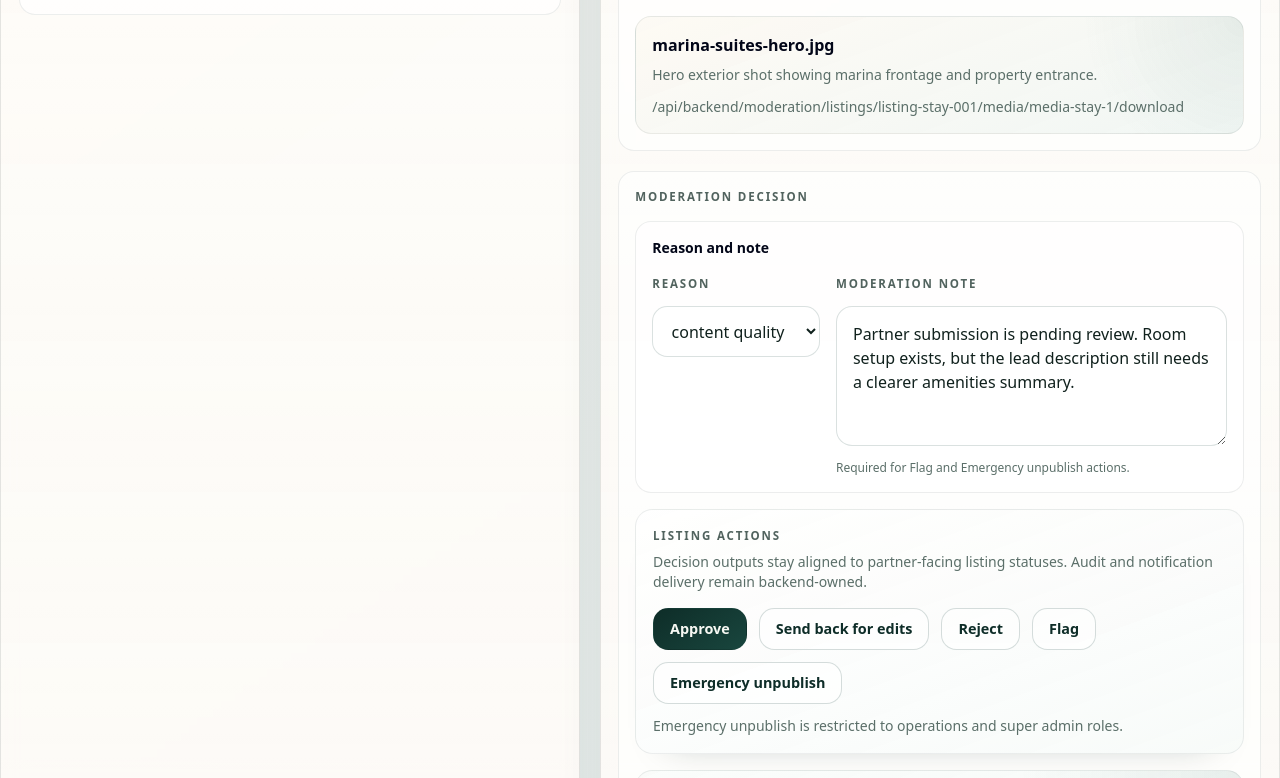
Test: ListingModerationWorkspace › supports correction requests for pending listings
The image size is (1280, 778).
(page scrolled)
Select "missing details" in the dropdown showing "content quality" at (736, 332), box [652,306,820,357]
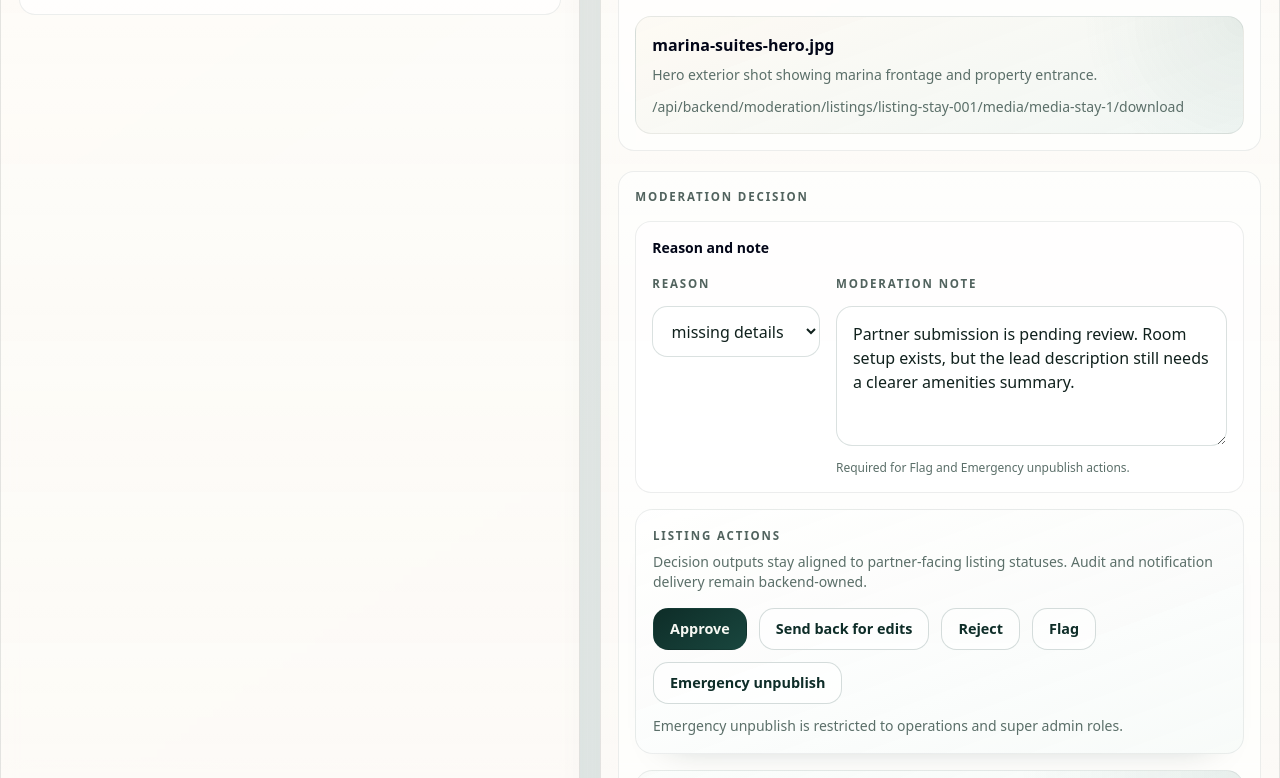
Replace the text in the text box with placeholder "Capture moderation reason" with "Please clarify amenities and route coverage before resubmitting." at (1032, 376), box [836,306,1228,446]
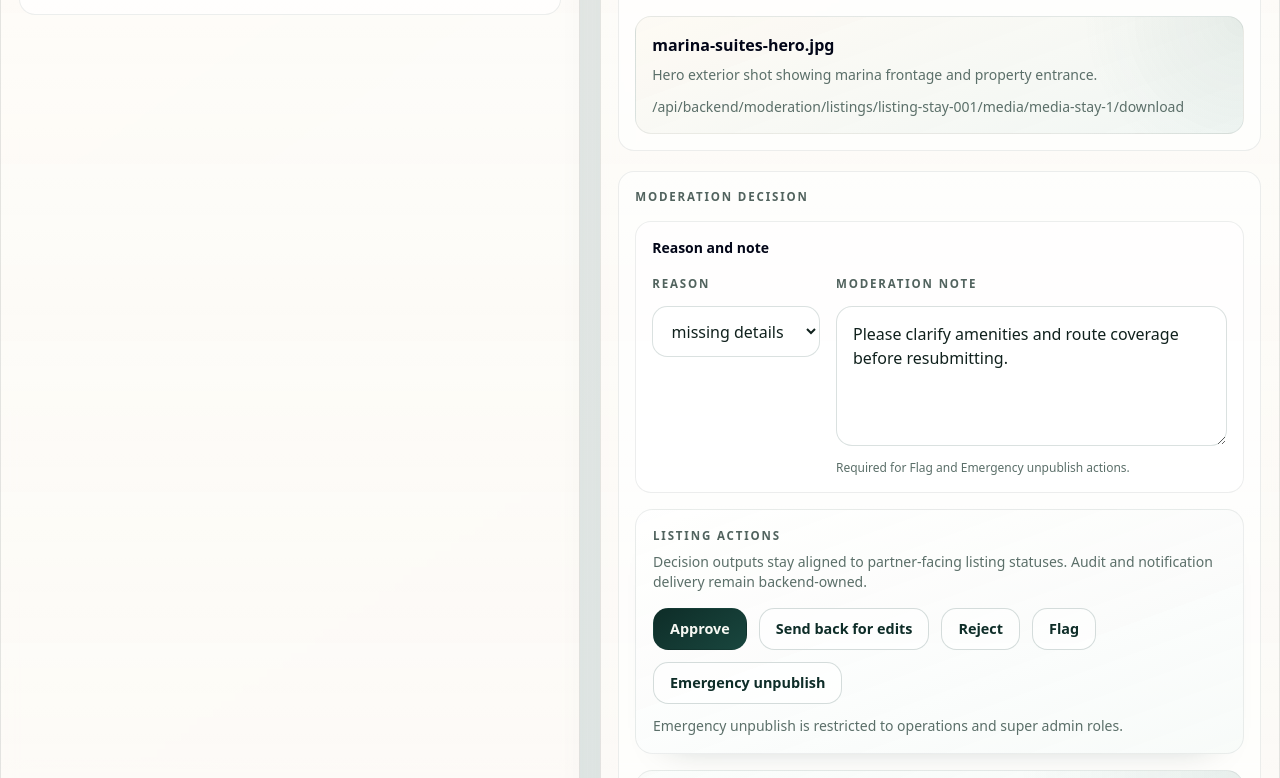
Click the button "Send back for edits".
click(844, 630)  # box [759,608,930,650]
(page scrolled)
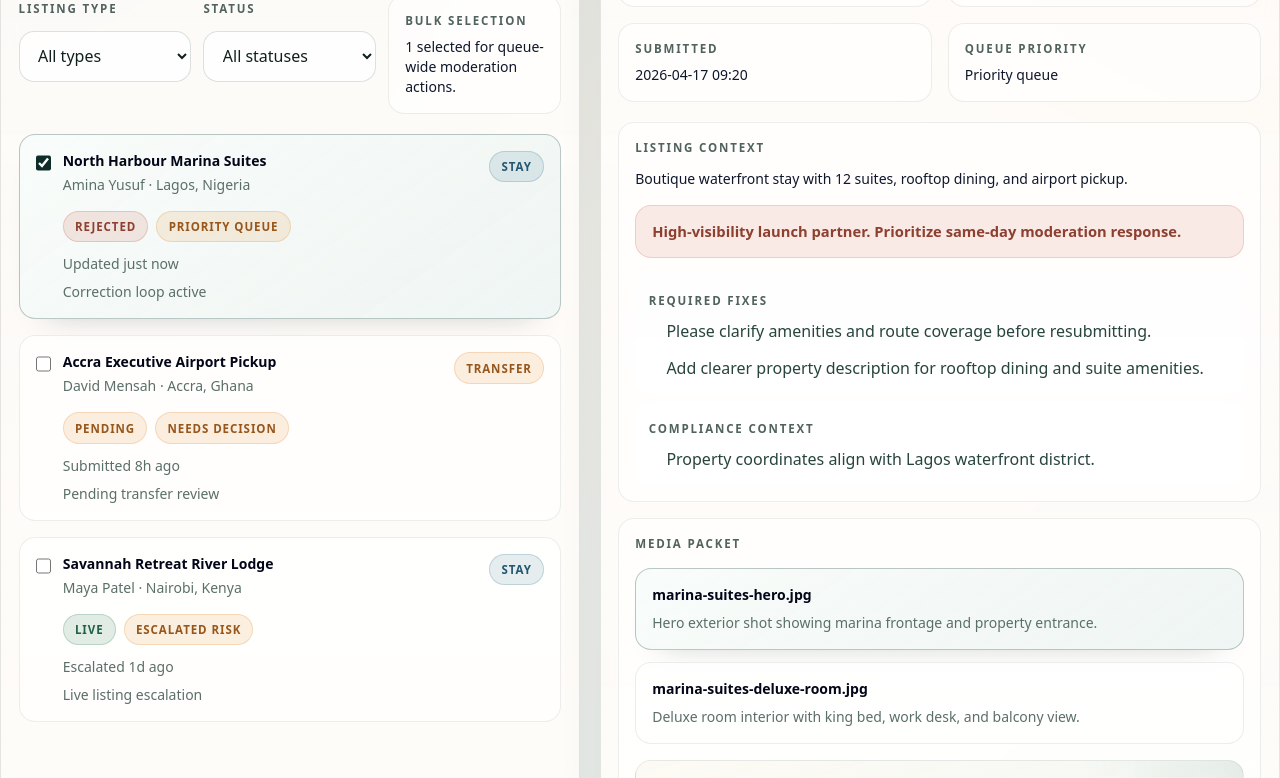
Now the list item "Please clarify amenities and route coverage" is shown, box [666,320,1151,342]
